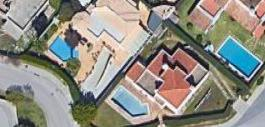pool: (215, 34, 263, 82), (111, 86, 150, 117), (48, 33, 80, 62)
